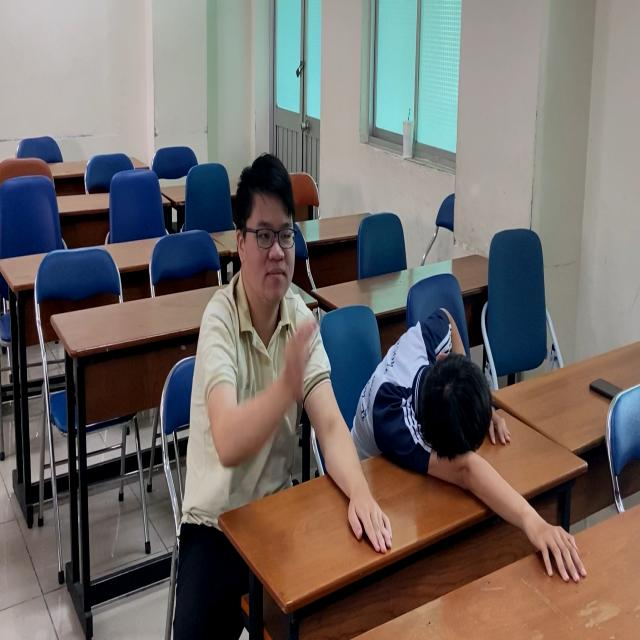sleep: (349, 302, 523, 485)
